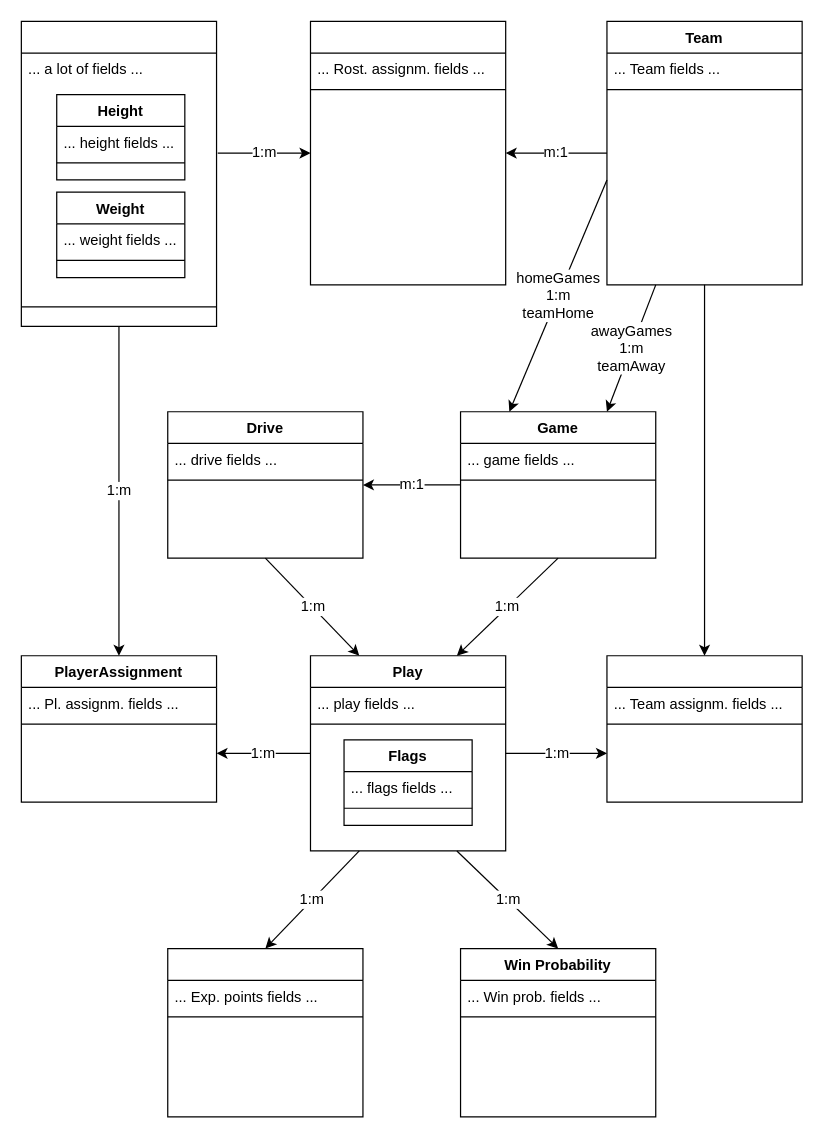
Some shapes in this 824 by 1138 pixel diagram are drawn without their labels. Here are the shapes that lost their labels. From the top down, the box of each, then its label:
(309, 20, 506, 285): RosterAssignment
(20, 20, 217, 326): Player
(606, 655, 802, 802): TeamAssignment
(167, 947, 363, 1117): Expected Points
